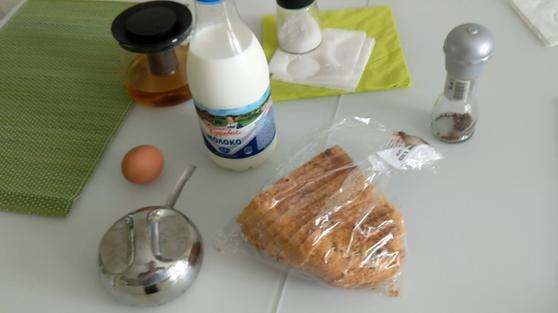egg: (122, 144, 166, 185)
